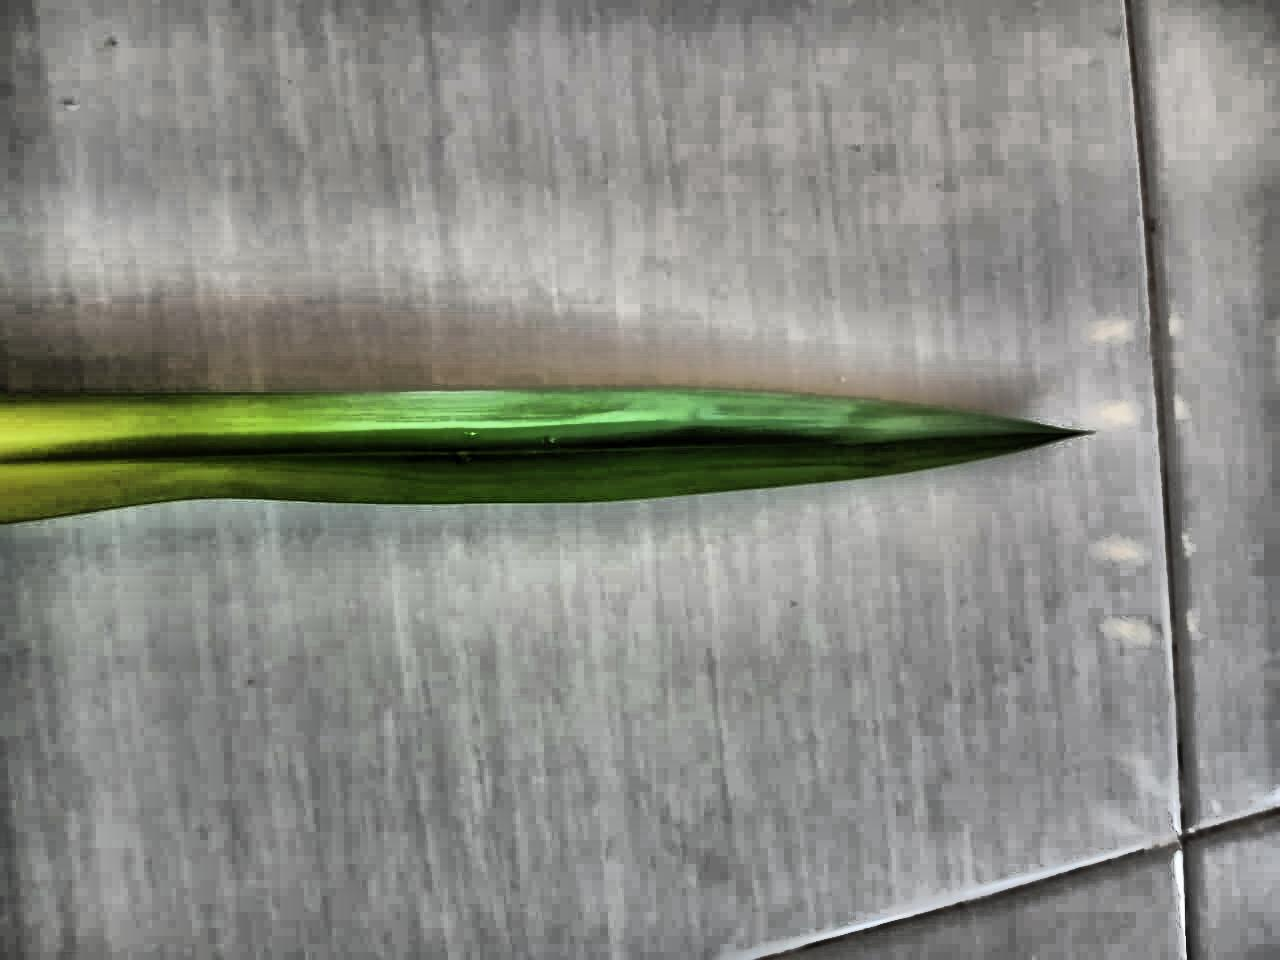daun pandan: (0, 389, 1081, 523)
